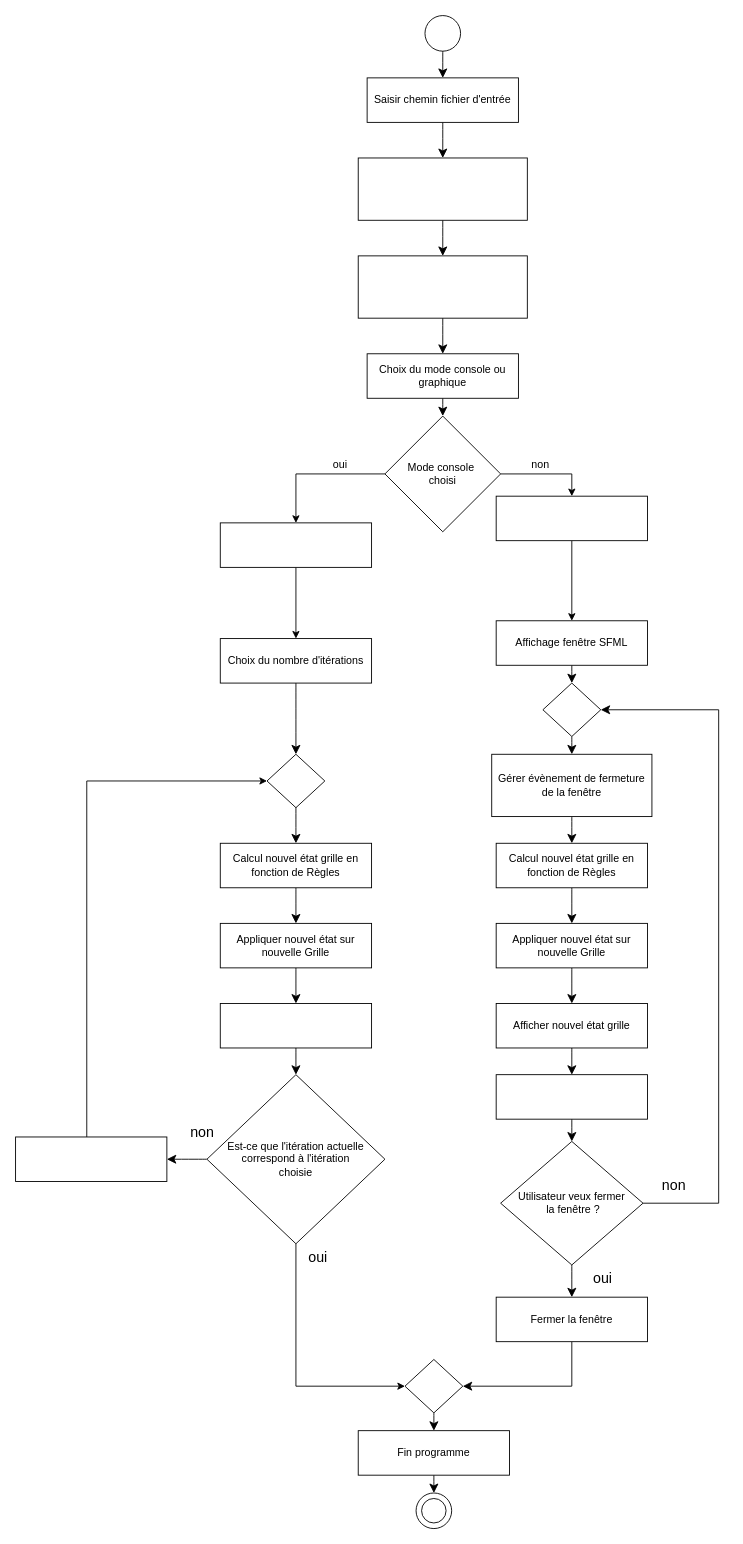
Image size: 743x1544. Some labels were removed from this diagram. The shapes that lost their labels are listed below. From the top down, each one's centre as x and y in pixels, then its label:
At point (442, 188): "Lire le fichier d'entrée (taille grille et état initial des cellules)".
At point (442, 286): "Construire les différents objets (Grille, Cellules, Règles)".
At point (571, 518): "Choix du mode graphique".
At point (295, 544): "Choix du mode console".
At point (295, 1025): "Sortie grille fichier itération actuelle <nom_fe>_out".
At point (571, 1096): "Délai de simulation".
At point (91, 1158): "Ancienne grille devient nouvelle grille".
